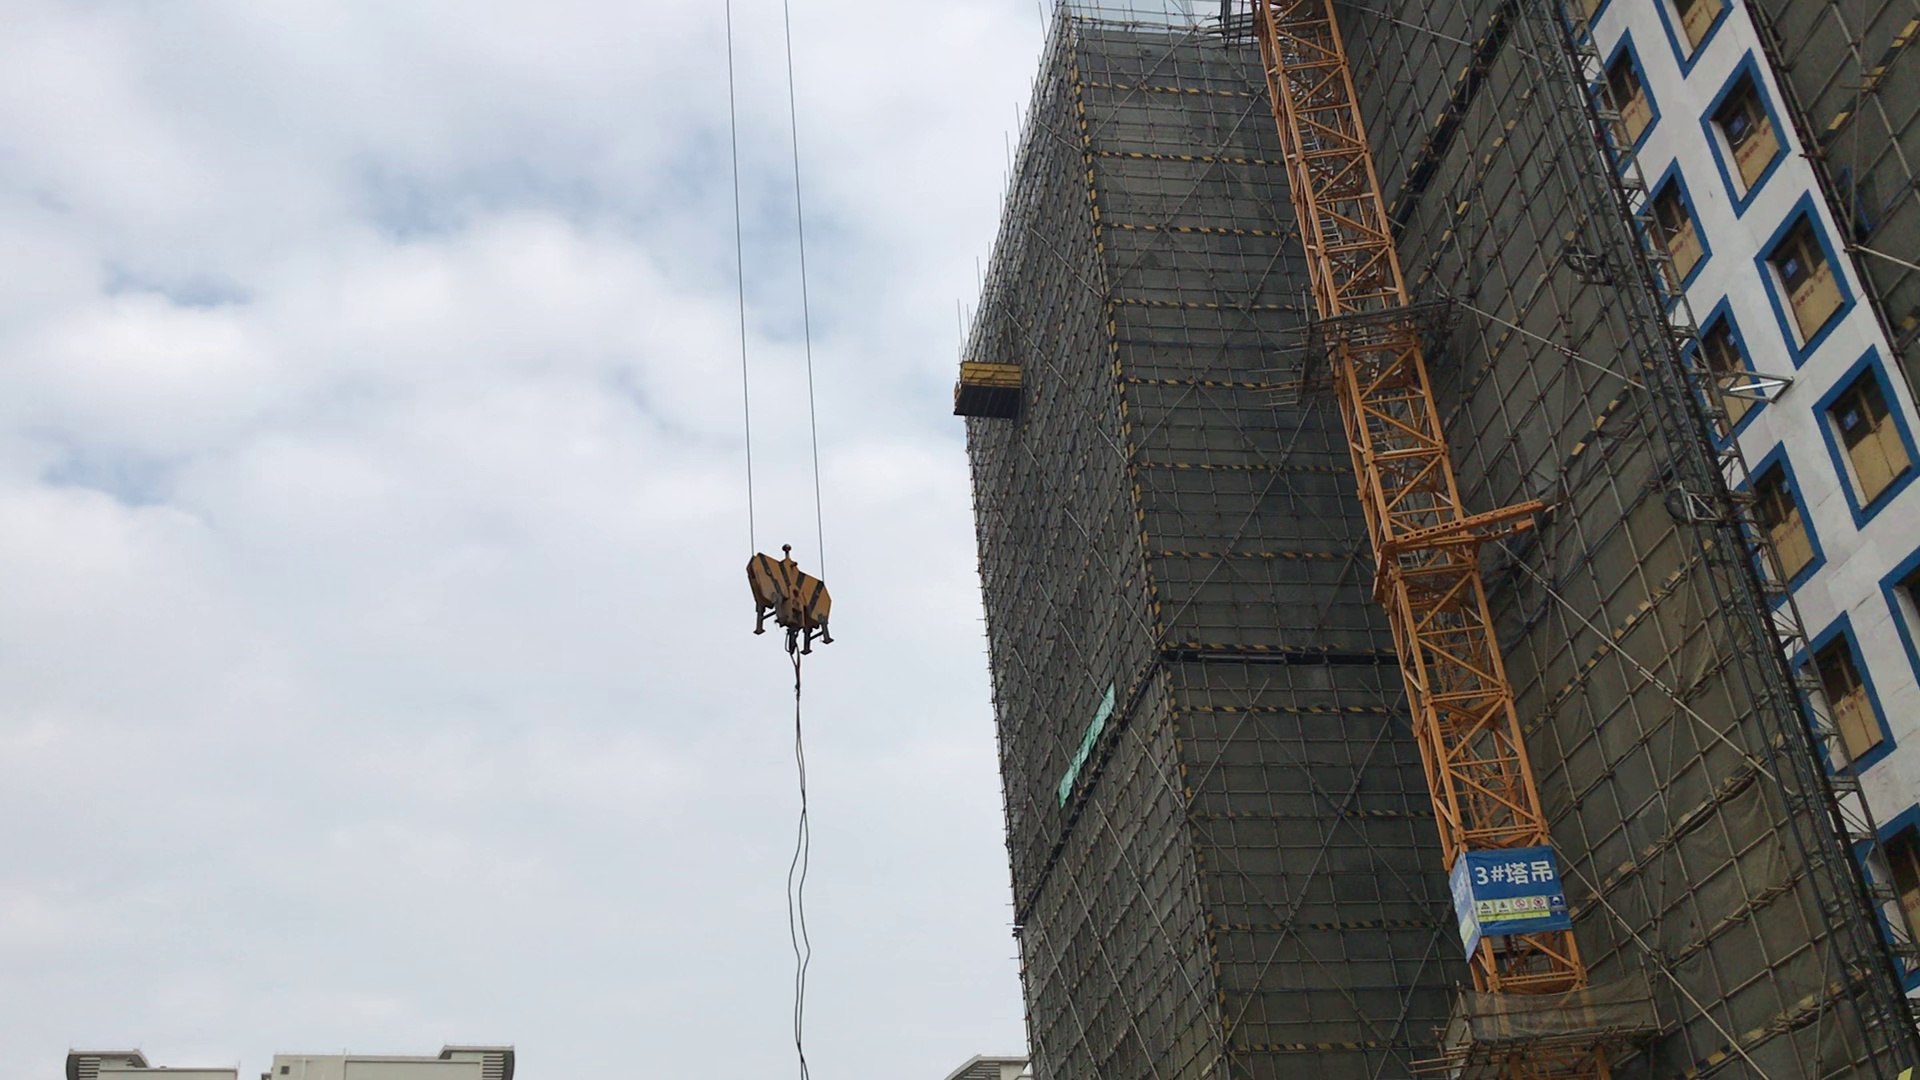hook: (742, 530, 847, 662)
slogan: (1444, 851, 1575, 943), (1054, 676, 1120, 815)
